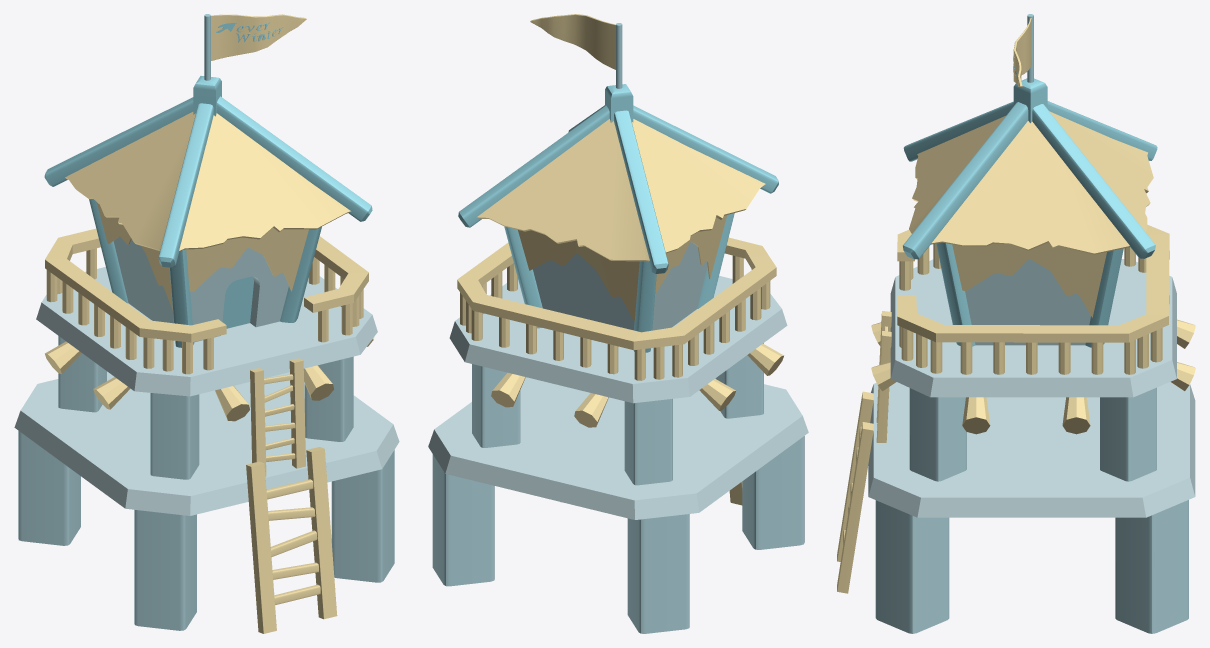
The model's file is TavernTower_3.fbx.
3 renders of one model, left to right at view 1: azimuth 30°, elevation 25°; view 2: azimuth 150°, elevation 25°; view 3: azimuth 270°, elevation 25°, orthographic. The views are drawn at different scales.
Visible parts, largest first — view 1: polySurface130; view 2: polySurface130; view 3: polySurface130.
Boxes of the visible parts, <box> form: polySurface130: <box>14,14,399,633</box>; polySurface130: <box>428,14,808,633</box>; polySurface130: <box>837,14,1195,633</box>.
Bounding box in the file's own units: 1.25 × 2.35 × 1.36.
